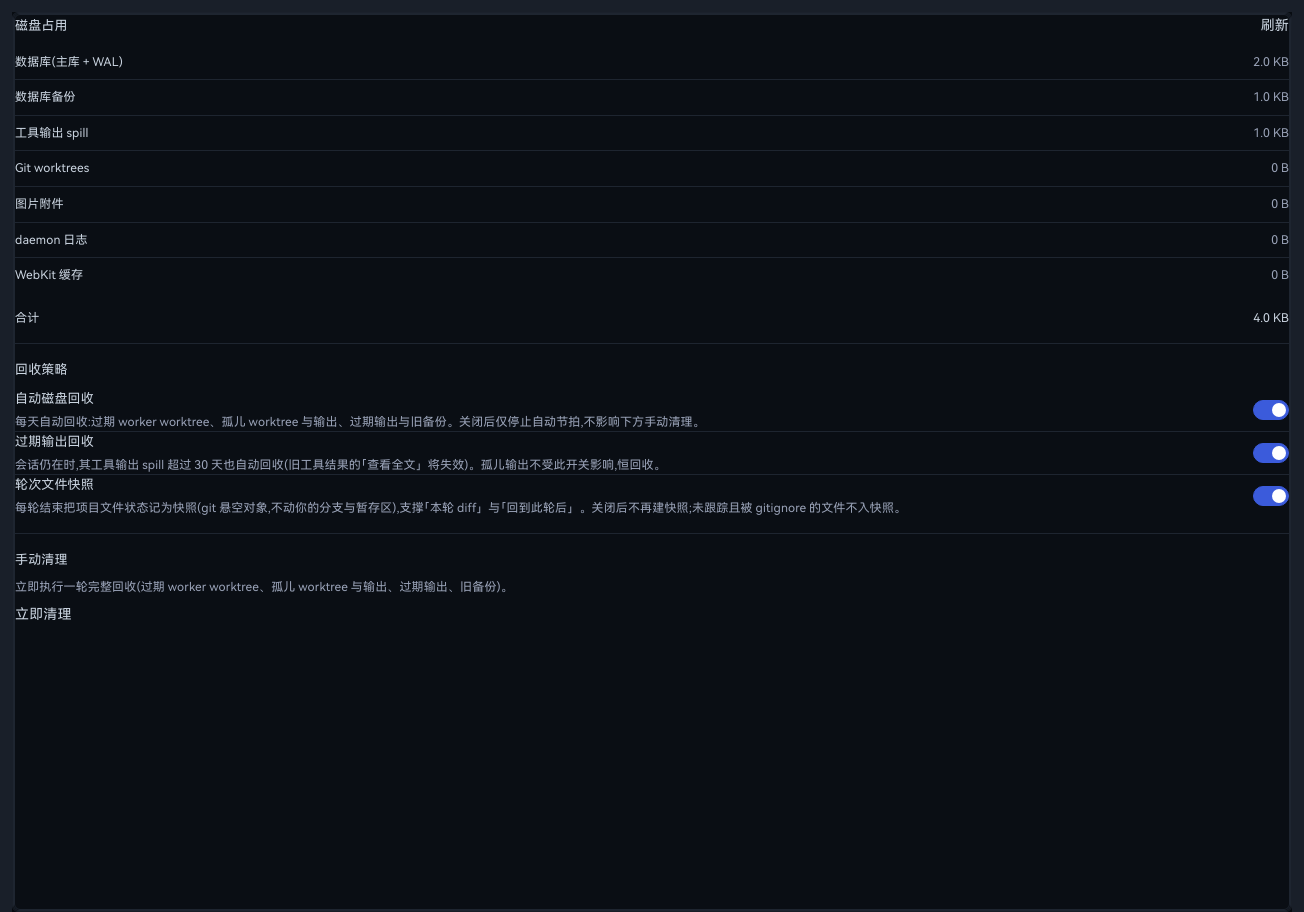
Test: DiskTab — 立即清理 › 成功:toast 含总回收量与逐项摘要;自动重新拉概览(AC7 闭环)
Click the button with class "disk-tab__cleanup" at (43, 615), box [15,604,72,626]
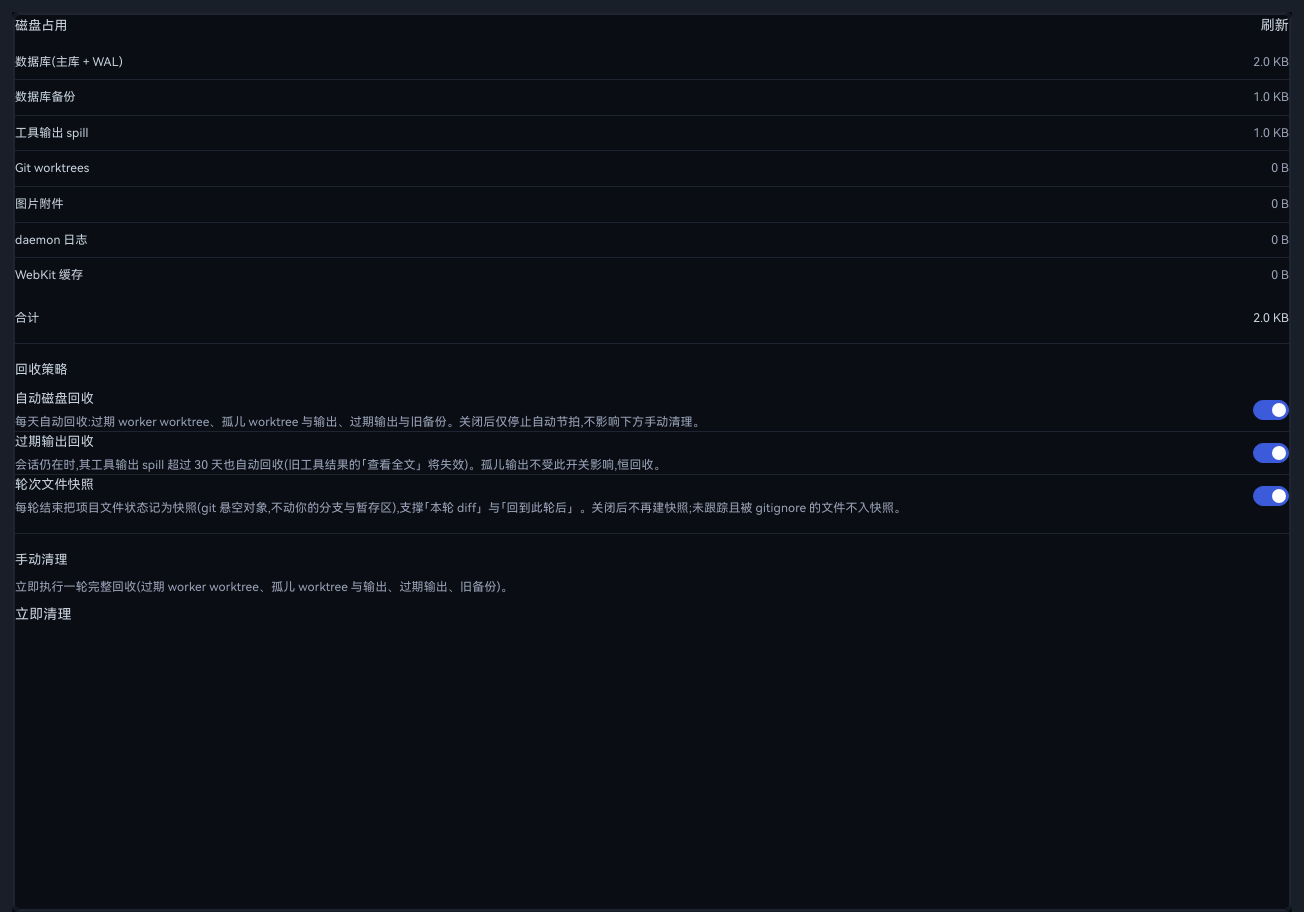
Expected: the text "2.0 KB" is shown, [1253,53,1289,71]
Result: the text "4.0 KB" is gone
